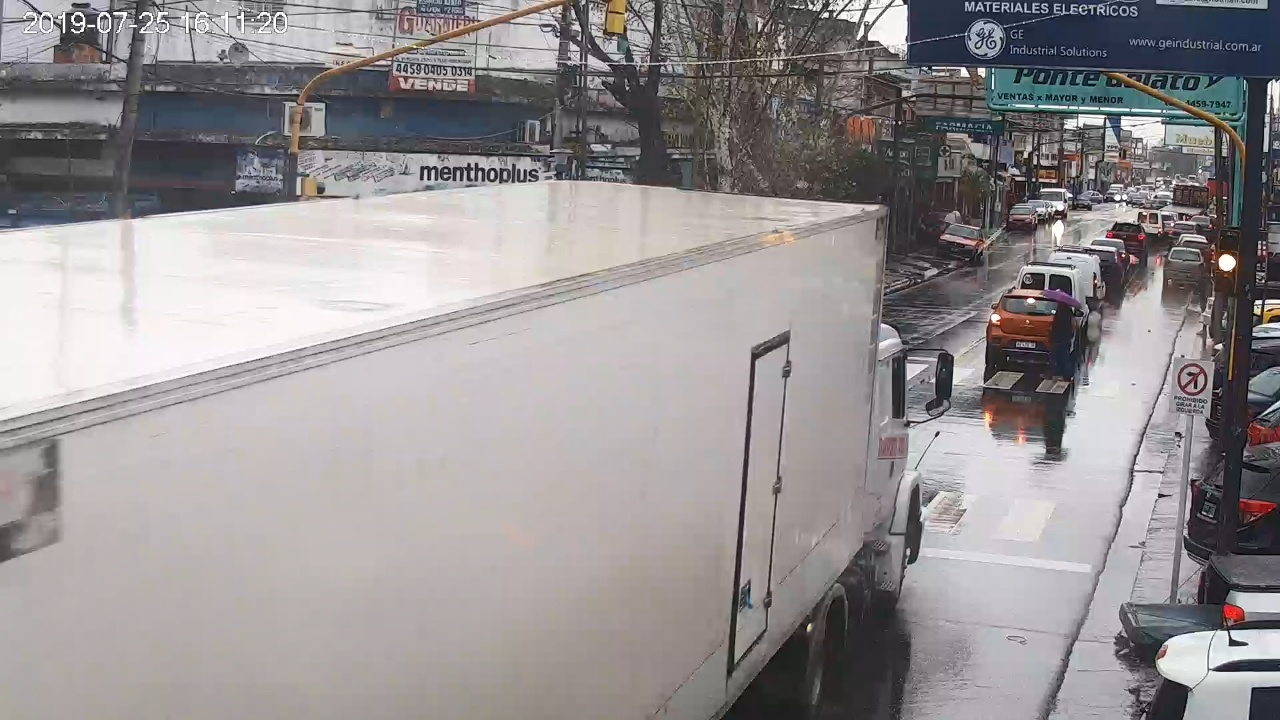traffic light: (1216, 229, 1238, 294)
truck: (3, 180, 956, 720)
